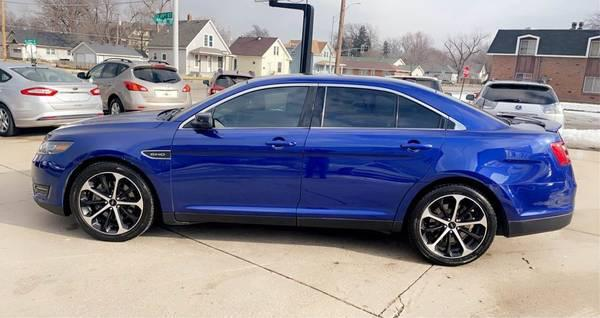Front_Bumper: (27, 153, 69, 218)
Front_Fender: (47, 126, 179, 224)
Front_Left_Door: (169, 130, 309, 227)
Front_Left_Window: (185, 88, 323, 133)
Hood: (54, 107, 172, 134)
Left_Headlight: (38, 139, 75, 154)
Left_Taillight: (550, 139, 572, 167)
Rear_Bumper: (492, 182, 577, 235)
Rear_Fender: (432, 129, 571, 187)
Rear_Left_Door: (298, 129, 446, 232)
Rear_Left_Window: (316, 87, 468, 133)
Roof: (182, 75, 516, 133)
Wheel: (413, 185, 500, 266), (66, 162, 154, 242)
